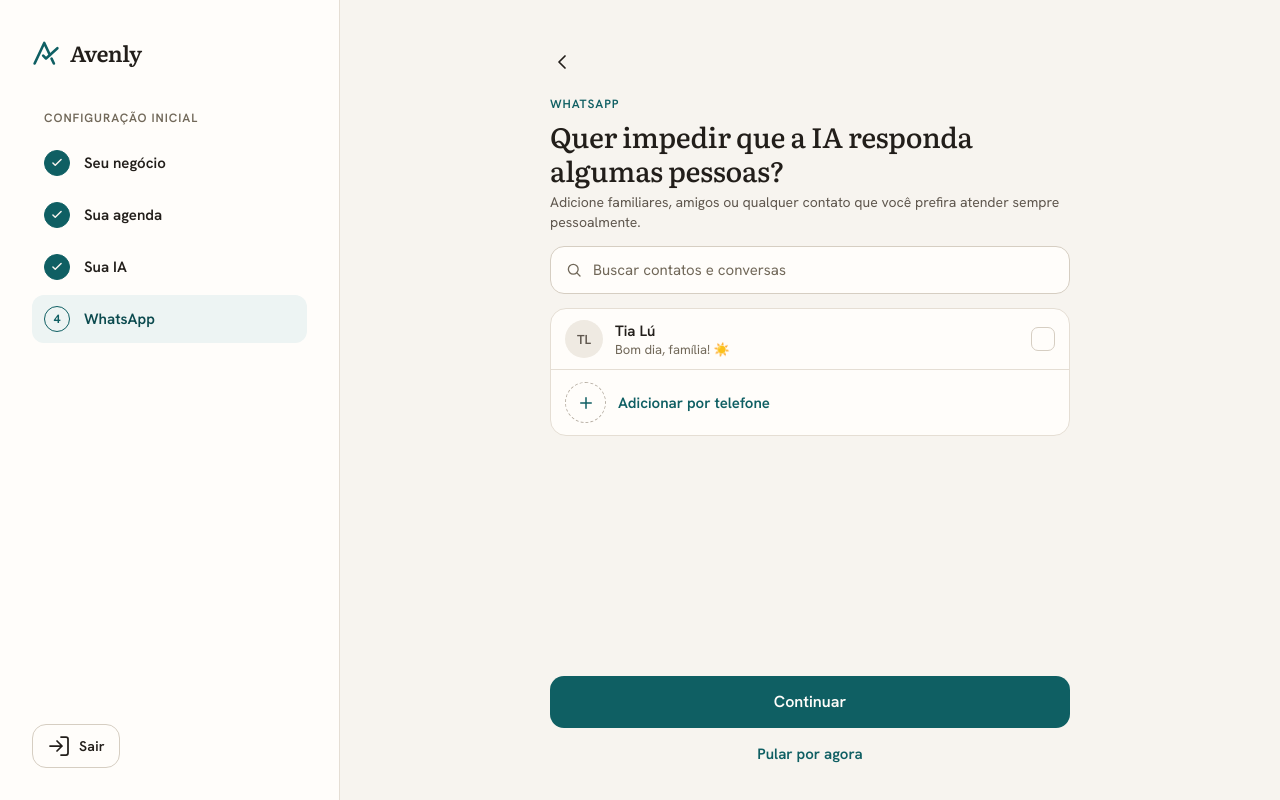
Test: 4.5: o rodapé › o número de uma conversa visível, adicionado por telefone, marca a caixa da linha e conta uma vez
The width and height of the screenshot is (1280, 800).
Check: the checkbox labelled "Tia Lú" is not checked, box x1=551 y1=309 x2=1069 y2=369
Check: the button "Continuar" is shown, box x1=550 y1=676 x2=1070 y2=728
Click the button "Adicionar por telefone" at (586, 403), box x1=551 y1=369 x2=1069 y2=435
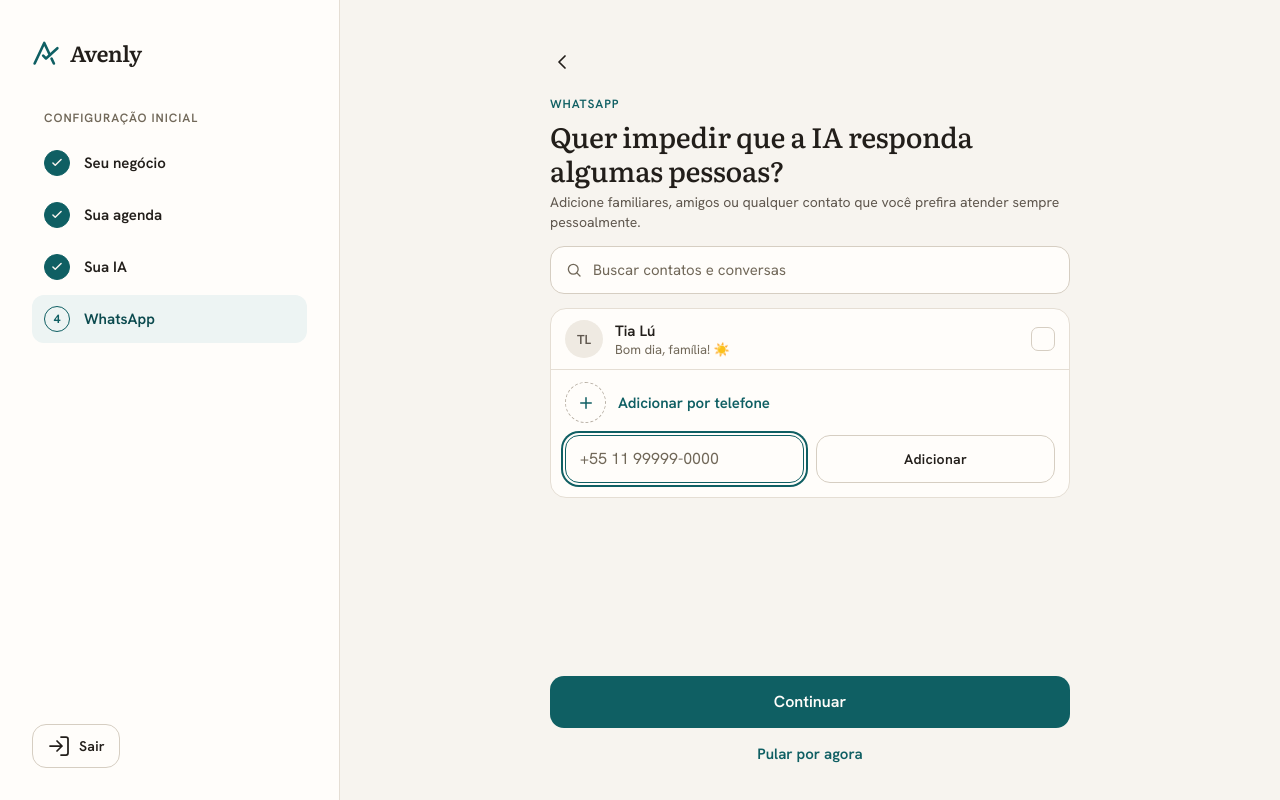
Type "+55 11 93333-0000" into the field with placeholder "+55 11 99999-0000" at (684, 459), box x1=565 y1=435 x2=804 y2=483
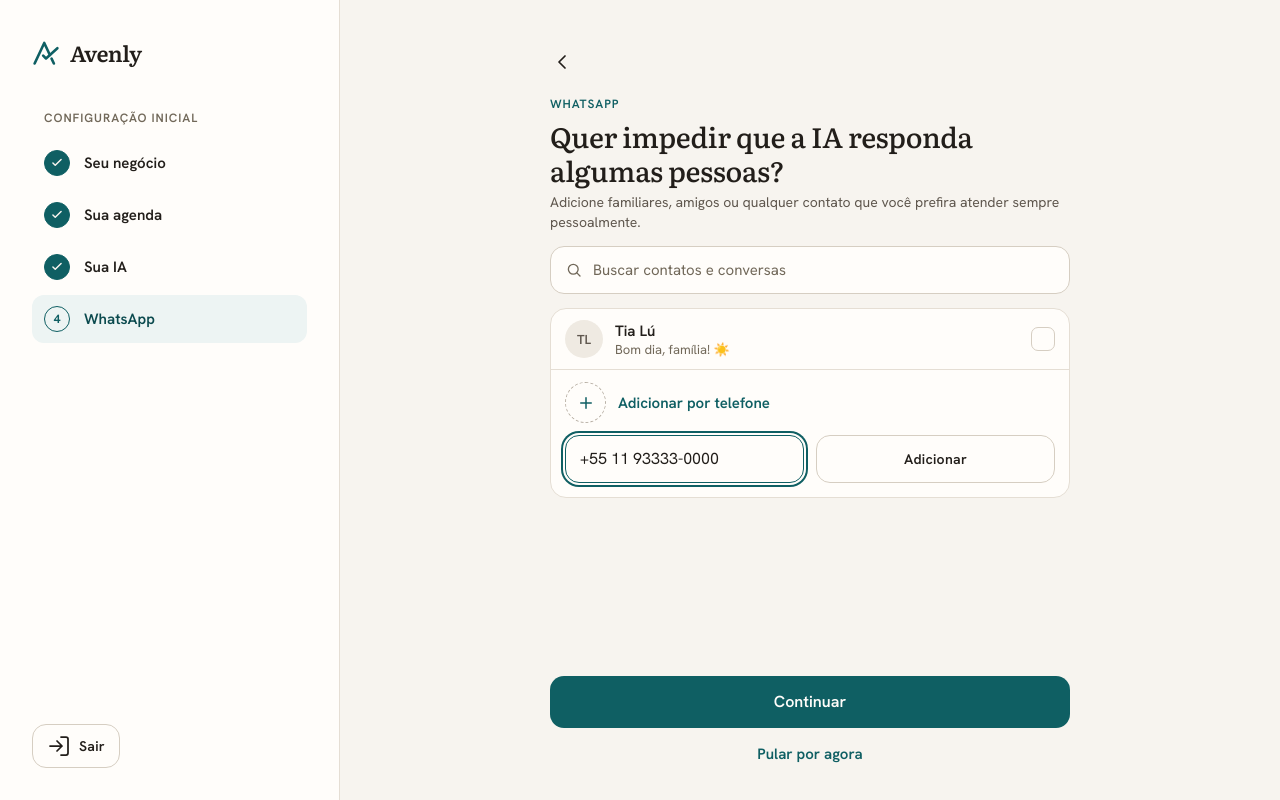
Click the button "Adicionar" at (936, 459), box x1=816 y1=435 x2=1055 y2=483
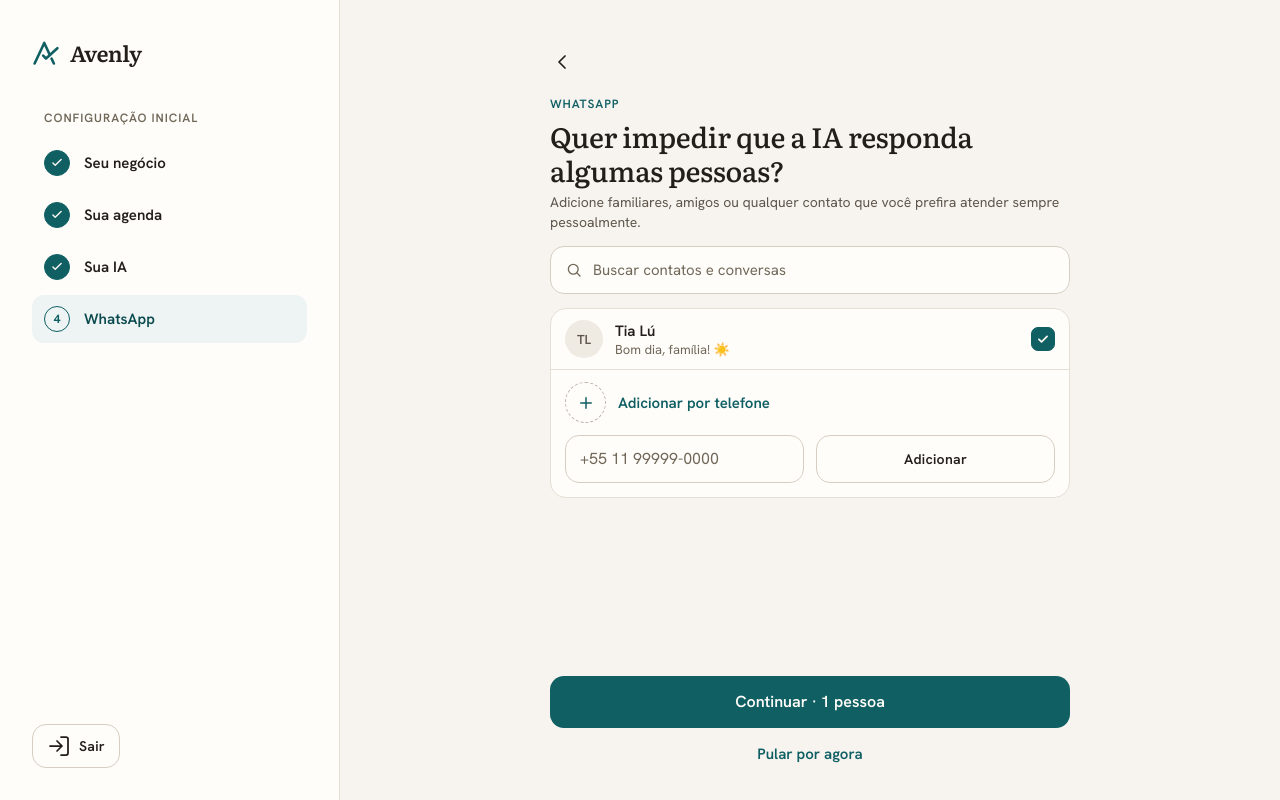
Check: the number of checkboxes is 1, box x1=551 y1=309 x2=1069 y2=369
Check: the checkbox labelled "Tia Lú" is checked, box x1=551 y1=309 x2=1069 y2=369
Check: the button "Continuar · 1 pessoa" is shown, box x1=550 y1=676 x2=1070 y2=728
